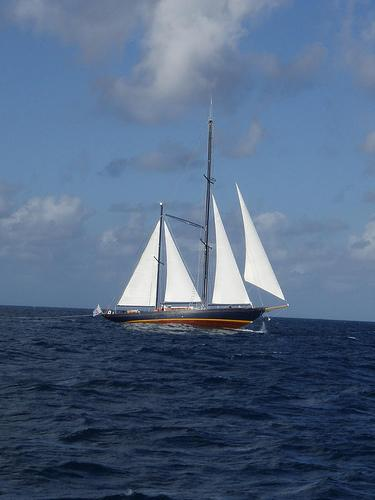Ship: (100, 115, 291, 334)
